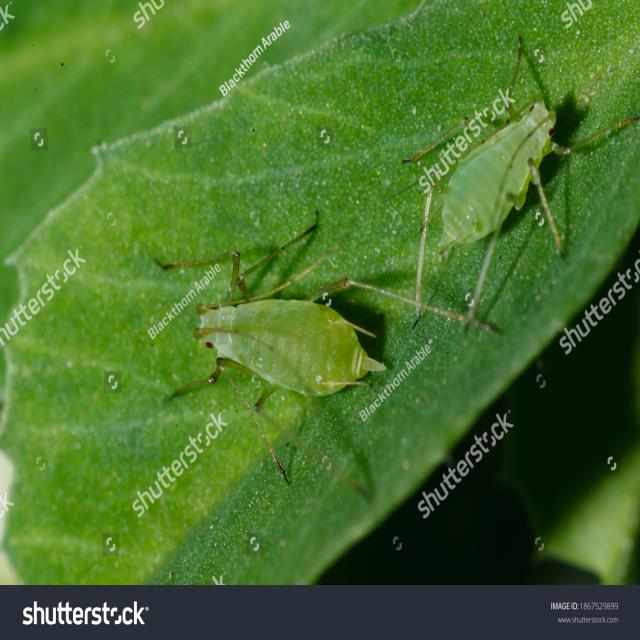Aphid-Grown-: (134, 224, 392, 420), (397, 47, 594, 296)
